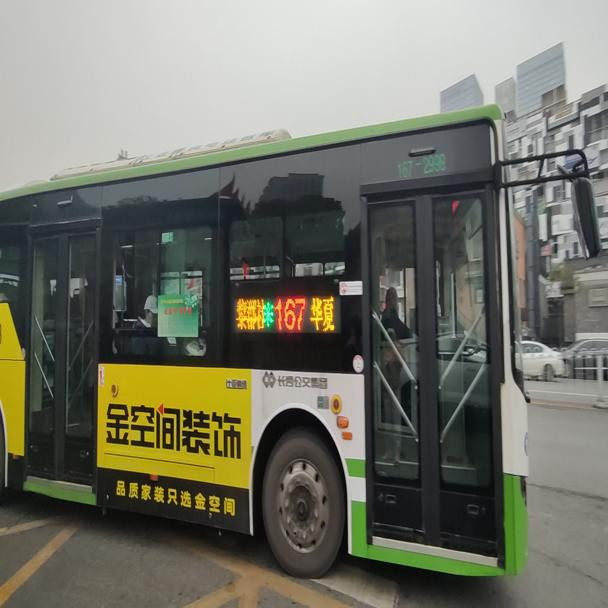bus: (1, 96, 603, 583)
screen: (275, 297, 305, 331)
